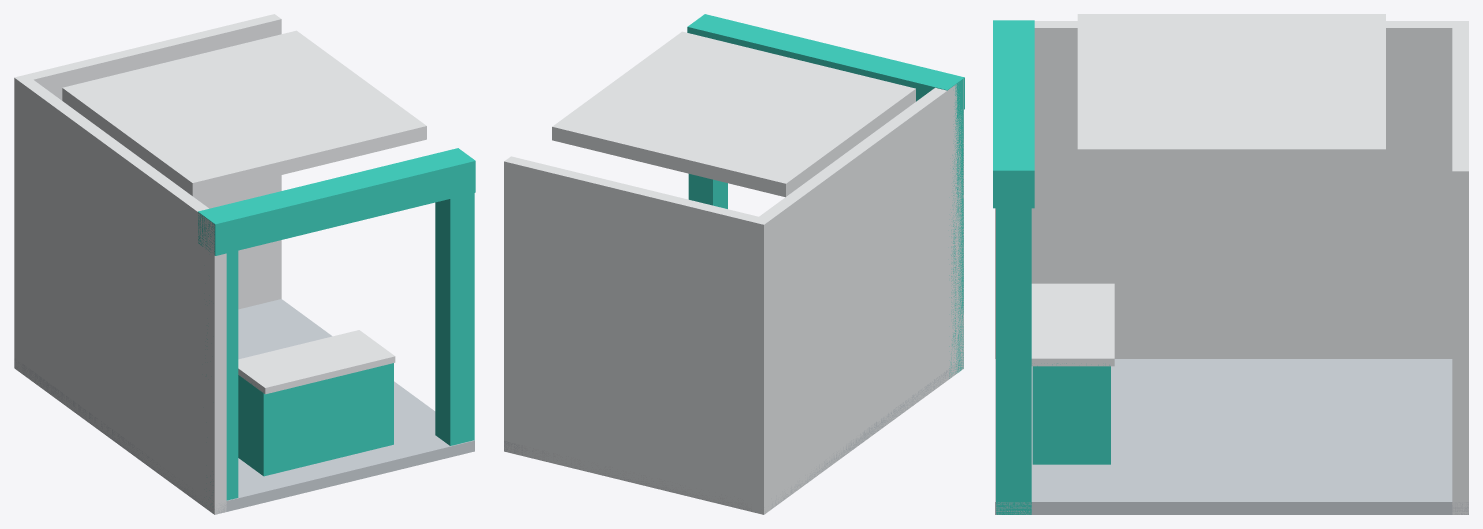
The picture shows the model from 3 angles, left to right: view 1: azimuth 30°, elevation 25°; view 2: azimuth 150°, elevation 25°; view 3: azimuth 270°, elevation 25°; orthographic projection. The views are drawn at different scales.
Parts seen in each view (by area): view 1: Exhibition Booth Concept; view 2: Exhibition Booth Concept; view 3: Exhibition Booth Concept.
Boxes of the visible parts, x1=… form: Exhibition Booth Concept: x1=14, y1=14, x2=475, y2=514; Exhibition Booth Concept: x1=504, y1=14, x2=964, y2=514; Exhibition Booth Concept: x1=993, y1=14, x2=1468, y2=514.
Bounding box in the file's own units: 3 × 3.34 × 4.02.
